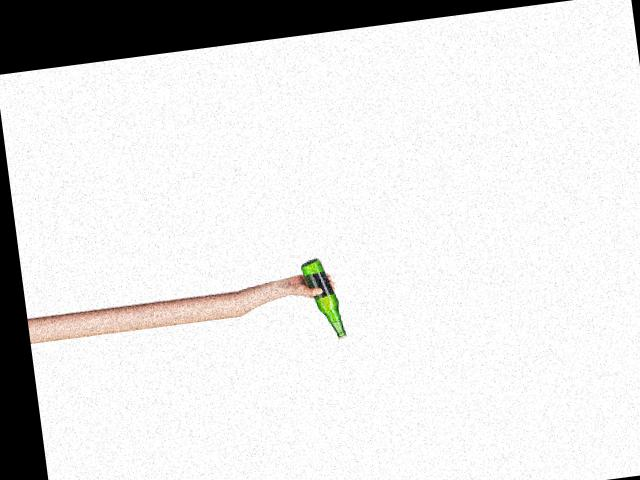beer: (299, 255, 347, 343)
